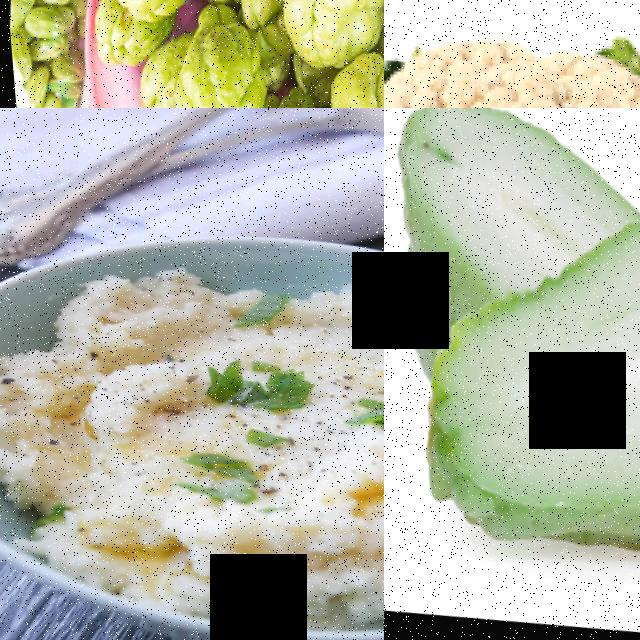cauliflower: (384, 0, 640, 108)
chayote: (439, 191, 640, 579), (384, 108, 629, 301), (157, 16, 272, 108), (260, 0, 381, 53), (316, 59, 384, 108), (448, 143, 451, 148)
